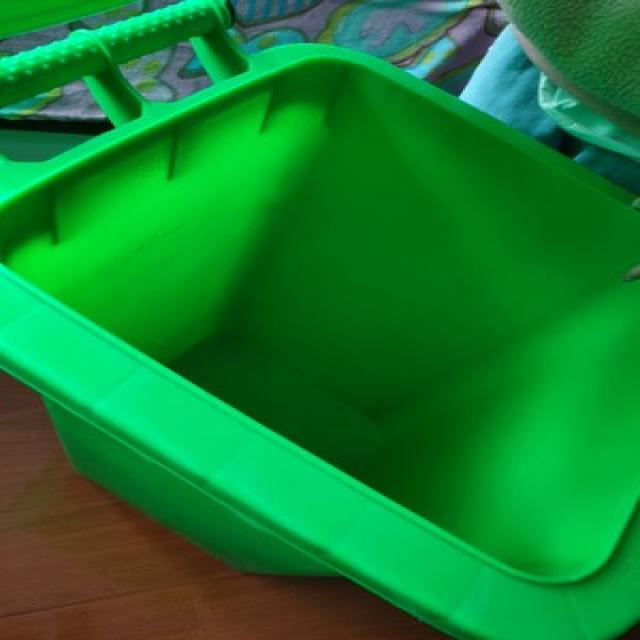ash bin: (2, 2, 638, 635)
